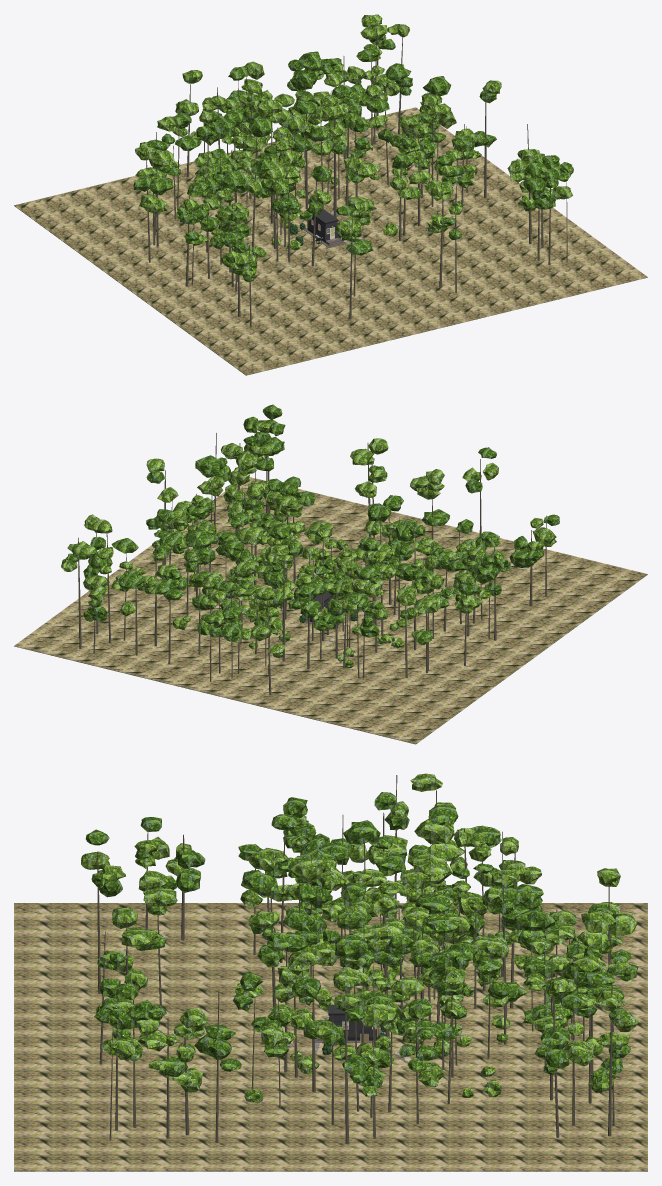
Rendered from minicasa.glb.
The picture shows the model from 3 angles, top to bottom: view 1: azimuth 30°, elevation 25°; view 2: azimuth 150°, elevation 25°; view 3: azimuth 270°, elevation 25°; orthographic projection. The views are drawn at different scales.
Parts seen in each view (by area): view 1: Terreno, Bosque copas, Bosque troncos; view 2: Terreno, Bosque copas, Bosque troncos; view 3: Terreno, Bosque copas, Bosque troncos.
Boxes of the visible parts, box(x1,y1,x2,y2) form: Terreno: box(14, 107, 647, 375); Bosque copas: box(133, 14, 573, 281); Bosque troncos: box(146, 28, 567, 326); Terreno: box(14, 477, 647, 744); Bosque copas: box(61, 404, 559, 668); Bosque troncos: box(78, 420, 546, 694); Terreno: box(14, 903, 647, 1171); Bosque copas: box(81, 773, 639, 1103); Bosque troncos: box(97, 775, 614, 1144).
Size of the model in its own units: 80 by 25.2 by 80.
103 materials, 24 textured.
